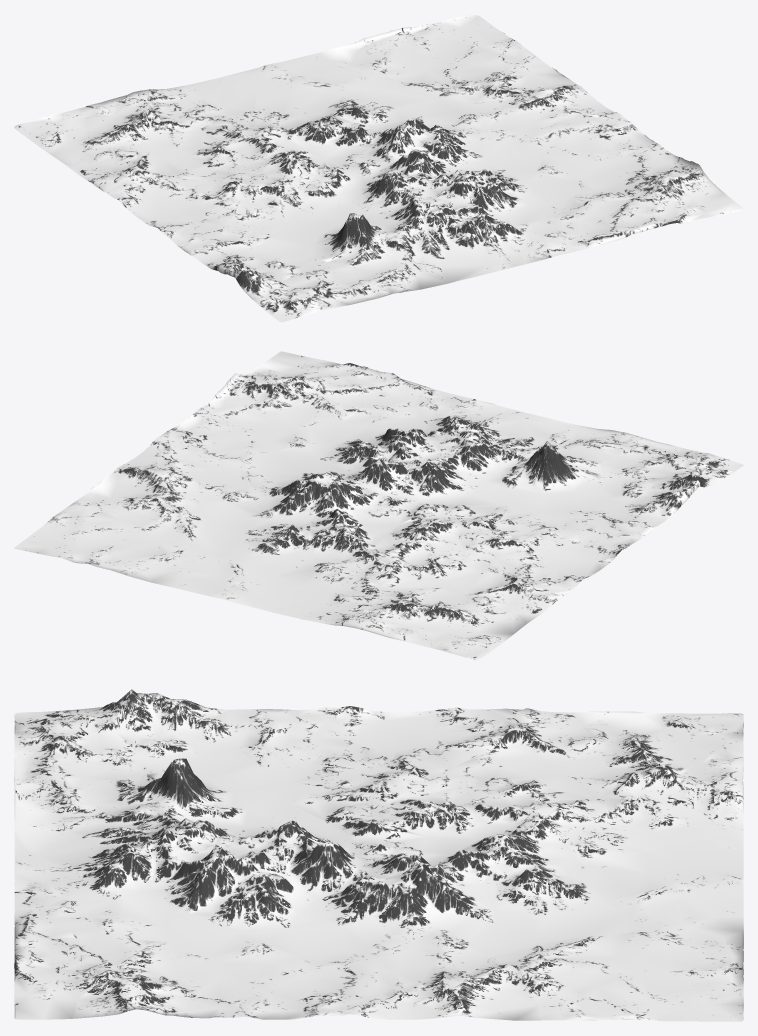
The picture shows the model from 3 angles, top to bottom: view 1: azimuth 30°, elevation 25°; view 2: azimuth 150°, elevation 25°; view 3: azimuth 270°, elevation 25°; orthographic projection. The views are drawn at different scales.
Visible parts, largest first — view 1: GeodePlane; view 2: GeodePlane; view 3: GeodePlane.
Part boxes in pixels (x1,y1,x2,y2): GeodePlane: [14, 14, 743, 322]; GeodePlane: [14, 351, 743, 660]; GeodePlane: [14, 689, 743, 1021].
Size of the model in its own units: 40.07 by 2.81 by 40.06.
1 material, 1 textured.
